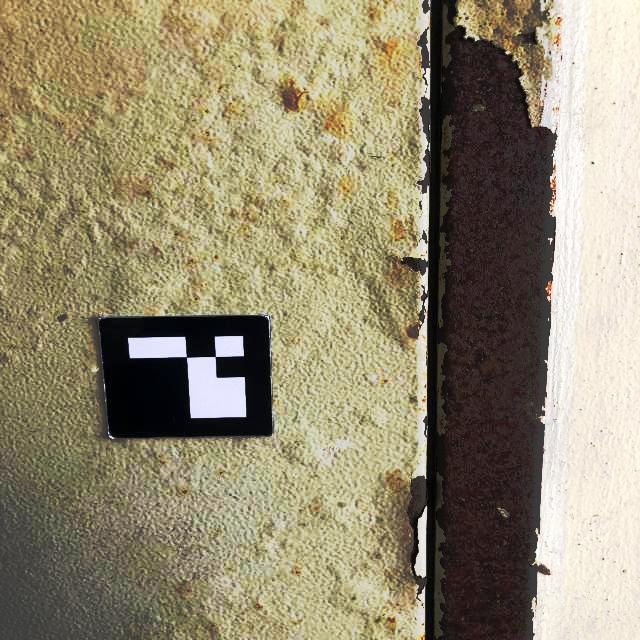Corrosion: (435, 0, 555, 640), (406, 475, 427, 594), (417, 26, 431, 85), (399, 257, 429, 277), (417, 285, 428, 339), (417, 149, 430, 194), (419, 96, 430, 144), (517, 31, 541, 48), (422, 0, 430, 14), (423, 415, 428, 437), (420, 230, 427, 245), (421, 394, 426, 404), (419, 201, 423, 211), (424, 383, 426, 388)
